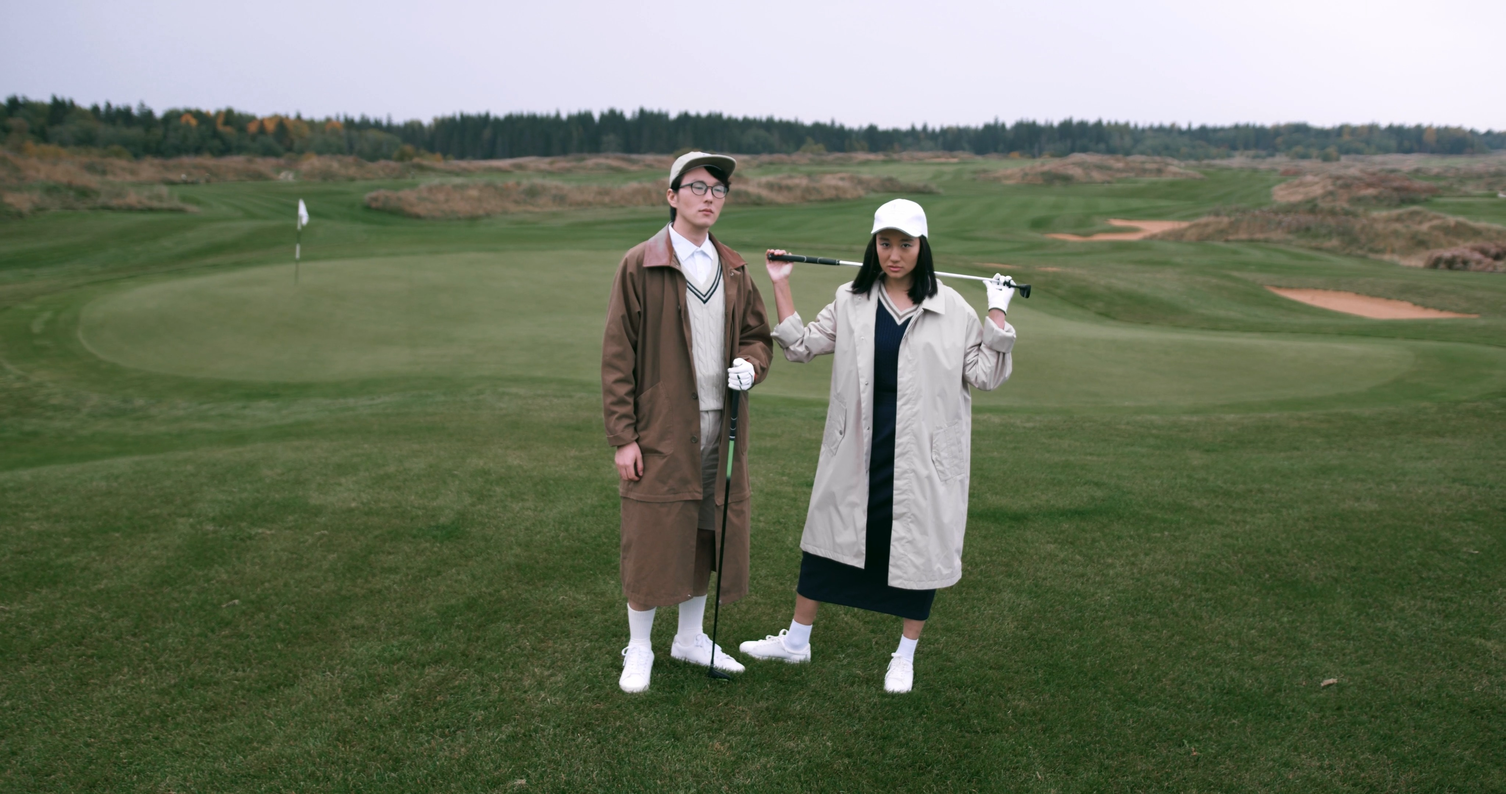No-gloves: (759, 243, 799, 289), (609, 436, 643, 484)
gloves: (984, 267, 1022, 327), (721, 351, 762, 398)
